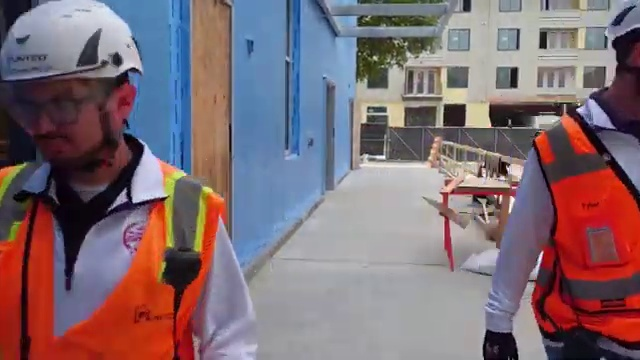helmet: (1, 1, 149, 104)
jacket: (527, 103, 640, 349)
